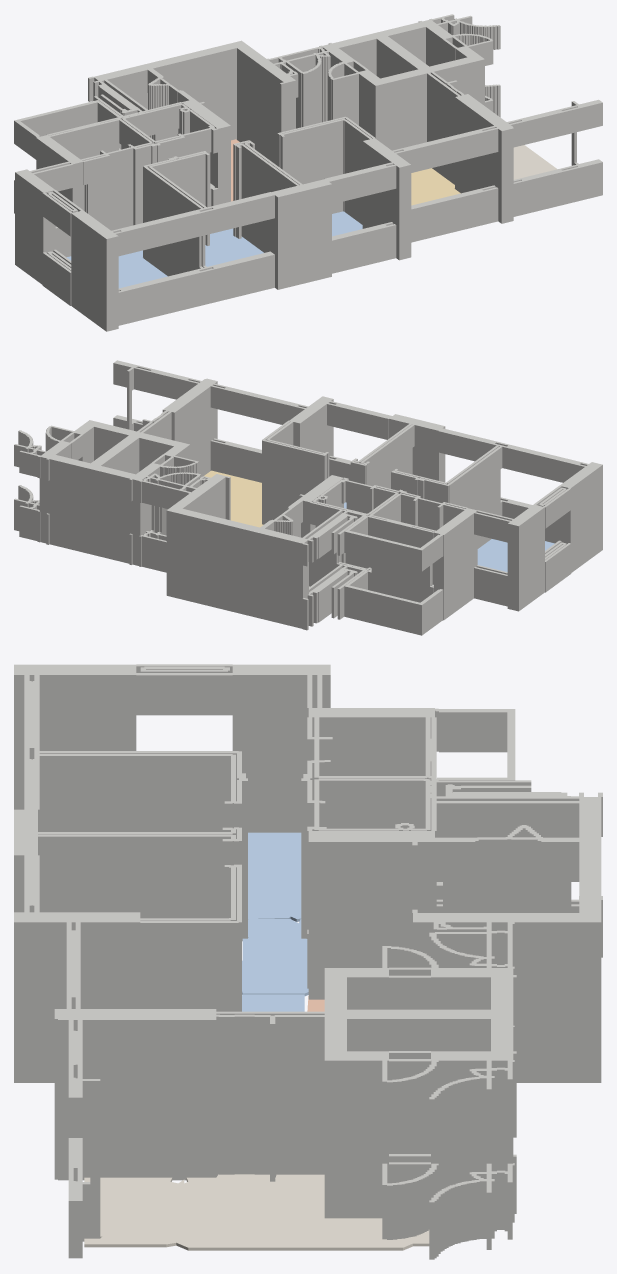
3 renders of one model, top to bottom at view 1: azimuth 30°, elevation 25°; view 2: azimuth 150°, elevation 25°; view 3: azimuth 270°, elevation 25°, orthographic. The views are drawn at different scales.
Parts seen in each view (by area): view 1: walls, room:bedroom:6, room:living:5, room:bedroom:3, room:other:8, room:bedroom:9; view 2: walls, room:living:5, room:bedroom:3; view 3: walls, room:other:8, room:bedroom:6, room:bedroom:3, room:bedroom:9.
Boxes of the visible parts, x1,y1,x2,y2 form: walls: [14, 14, 602, 331]; room:bedroom:6: [205, 228, 263, 266]; room:living:5: [411, 168, 460, 205]; room:bedroom:3: [67, 250, 167, 288]; room:other:8: [513, 145, 557, 179]; room:bedroom:9: [332, 211, 362, 236]; walls: [14, 360, 602, 635]; room:living:5: [204, 470, 263, 527]; room:bedroom:3: [477, 539, 554, 571]; walls: [14, 664, 602, 1259]; room:other:8: [84, 1174, 429, 1250]; room:bedroom:6: [242, 919, 308, 996]; room:bedroom:3: [248, 832, 301, 921]; room:bedroom:9: [242, 994, 304, 1011].
Bounding box in the file's own units: 16.28 × 2.8 × 9.31.
